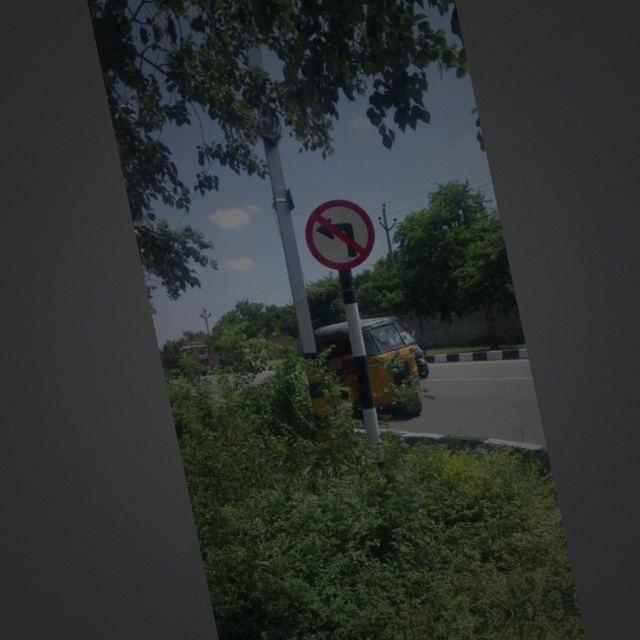Left_Turn_Prohibited: (297, 191, 385, 279)
